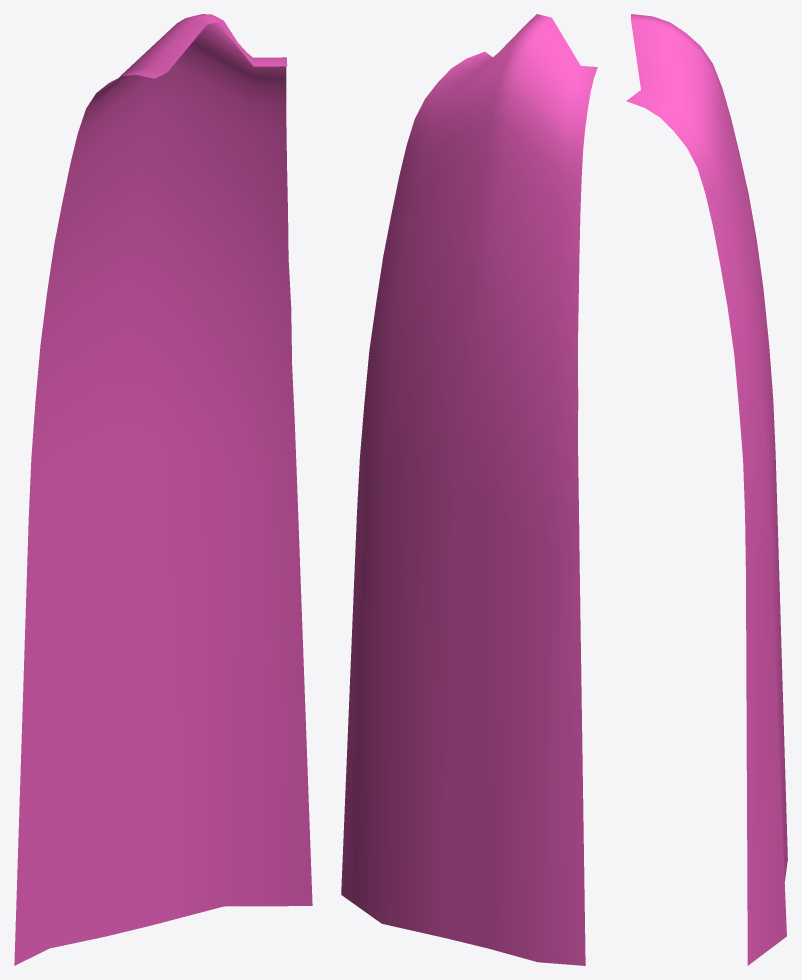
File: env_excavationsite_chemicalwaterfall01.fbx
3 renders of one model, left to right at view 1: azimuth 30°, elevation 25°; view 2: azimuth 150°, elevation 25°; view 3: azimuth 270°, elevation 25°, orthographic. The views are drawn at different scales.
Parts seen in each view (by area): view 1: ChemicalWaterFall01_main; view 2: ChemicalWaterFall01_main; view 3: ChemicalWaterFall01_main.
Boxes of the visible parts, <box> form: ChemicalWaterFall01_main: <box>14,14,312,965</box>; ChemicalWaterFall01_main: <box>341,14,597,965</box>; ChemicalWaterFall01_main: <box>626,14,787,965</box>.
Size of the model in its own units: 213 by 693 by 116.
